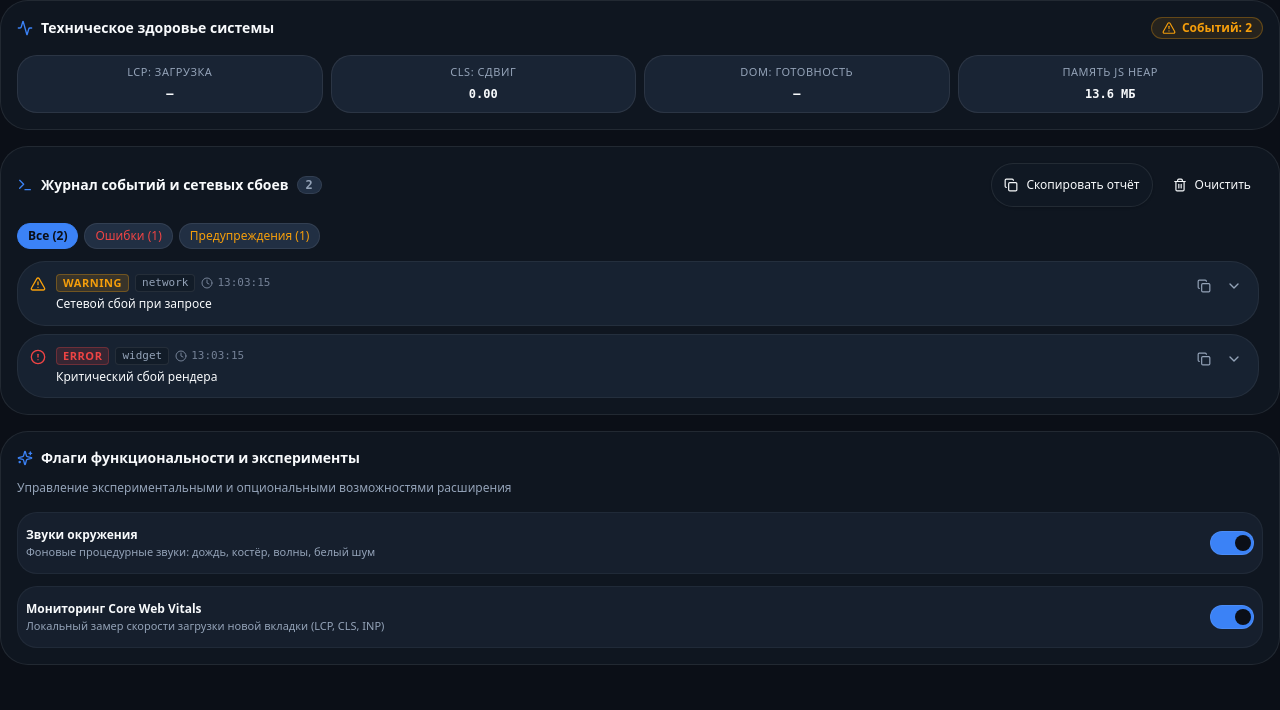
it: DiagnosticsSection Component (Live Log Viewer) › renders log entries, filters by level, and expands stack trace
Expected: the text "Событий: 2" is shown, [1182,20,1252,36]
Expected: the text "Сетевой сбой при запросе" is shown, [56,295,212,312]
Note: Фильтр только ошибок
Click the button "Ошибки (1)".
click(129, 236)  # box [84,223,173,249]
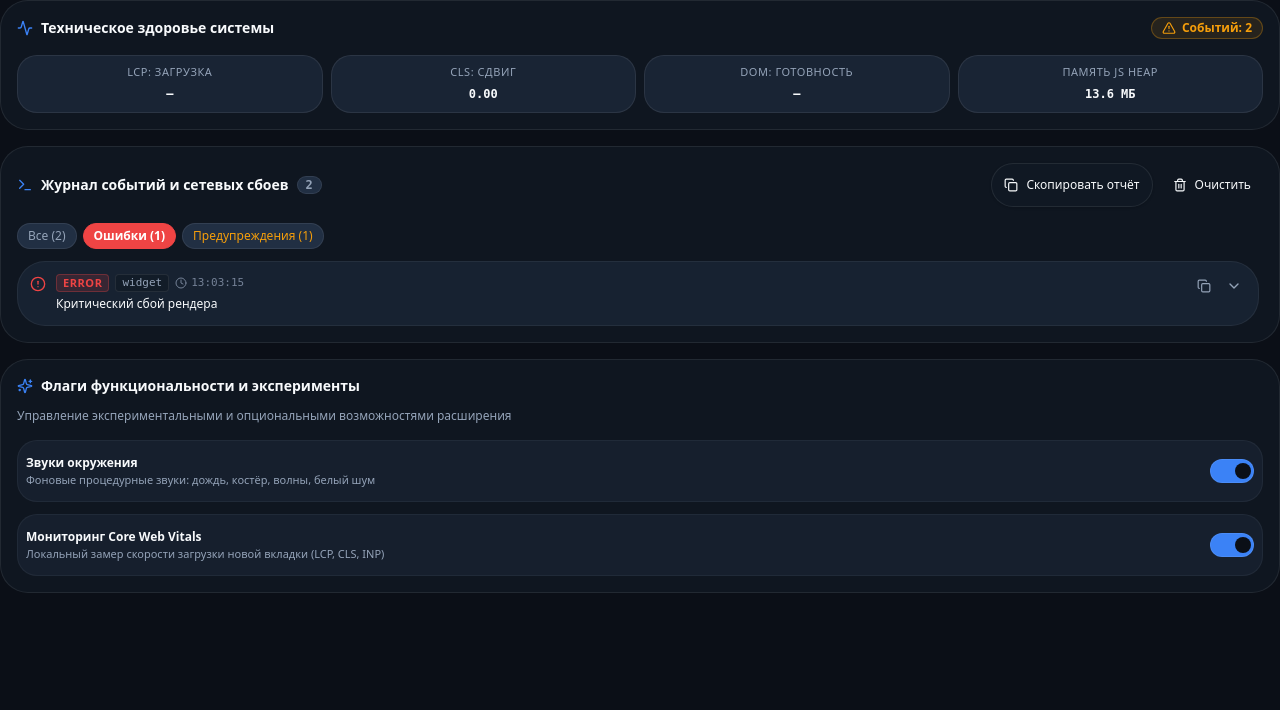
Expected: the text "Критический сбой рендера" is shown, [56,295,217,312]
Expected: the button "Сетевой сбой при запросе" is gone
Note: Возвращаем все
Click the button "Все (2)".
click(47, 236)  # box [17,223,76,249]
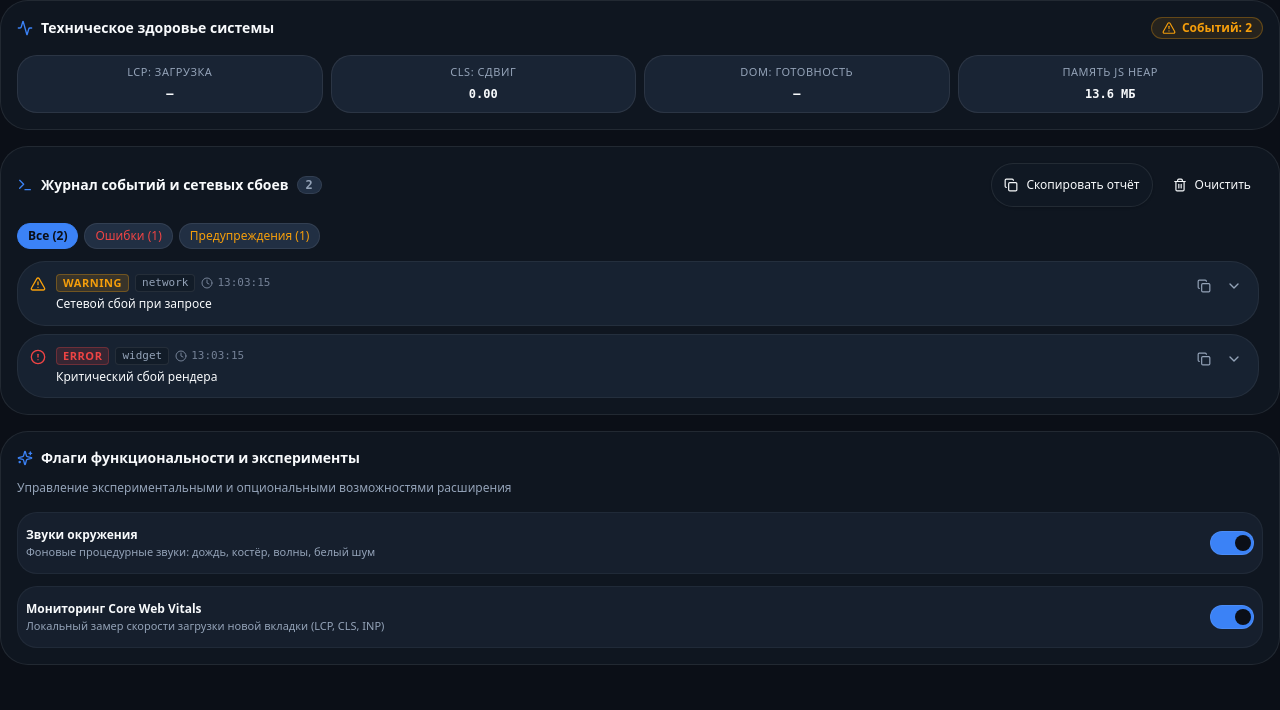
Note: Раскрываем аккордеон с ошибкой
Click the text "Критический сбой рендера".
click(137, 376)  # box [56,368,217,384]
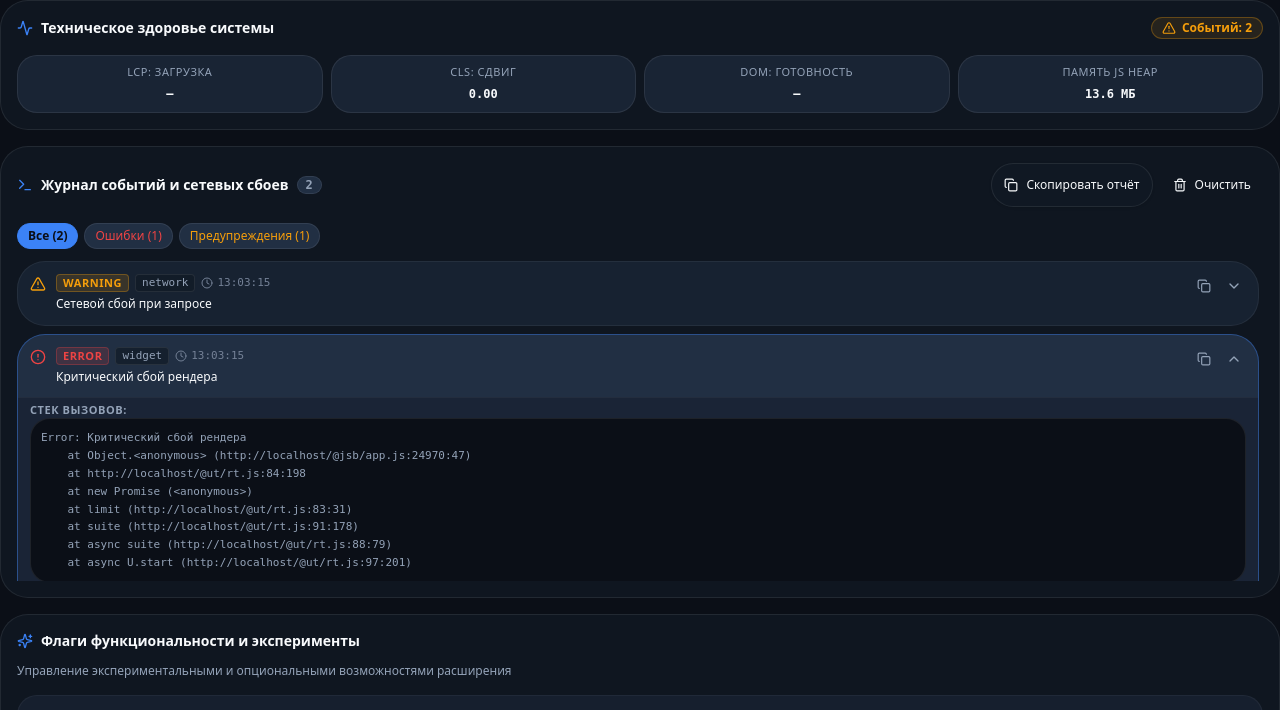
Expected: the text "Стек вызовов:" is shown, [30,402,127,417]
